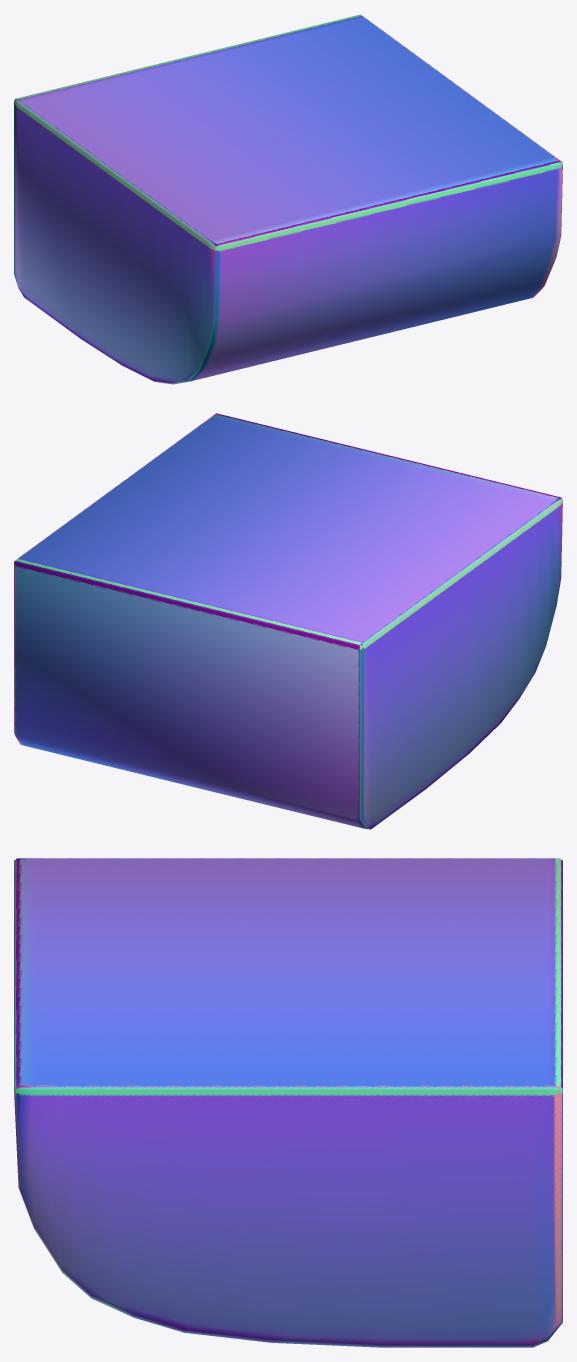
The model's file is boxbotmover.fbx.
3 renders of one model, top to bottom at view 1: azimuth 30°, elevation 25°; view 2: azimuth 150°, elevation 25°; view 3: azimuth 270°, elevation 25°, orthographic. The views are drawn at different scales.
Visible parts, largest first — view 1: Cube_002; view 2: Cube_002; view 3: Cube_002.
Boxes of the visible parts, x1,y1,x2,y2 form: Cube_002: (14,14,562,384); Cube_002: (14,413,562,829); Cube_002: (14,858,562,1347).
Bounding box in the file's own units: 3.78 × 2 × 3.8.
1 material, 1 textured.
